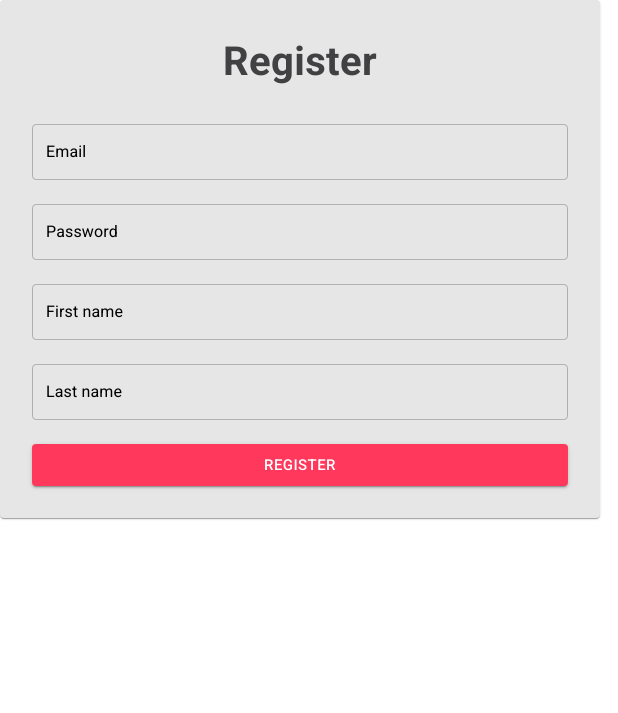
Scenario: Register form › Correctly handles succesfull response
Type "validtest@t.pl" into the field labelled "Email" at (300, 152), box top-left (32, 124), bottom-right (568, 180)
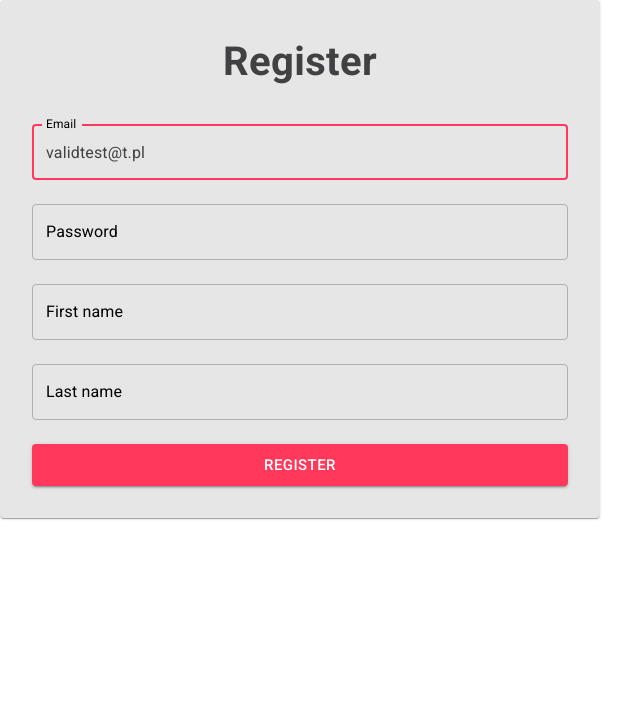
Type "validpassword" into the password field labelled "Password" at (300, 232), box top-left (32, 204), bottom-right (568, 260)
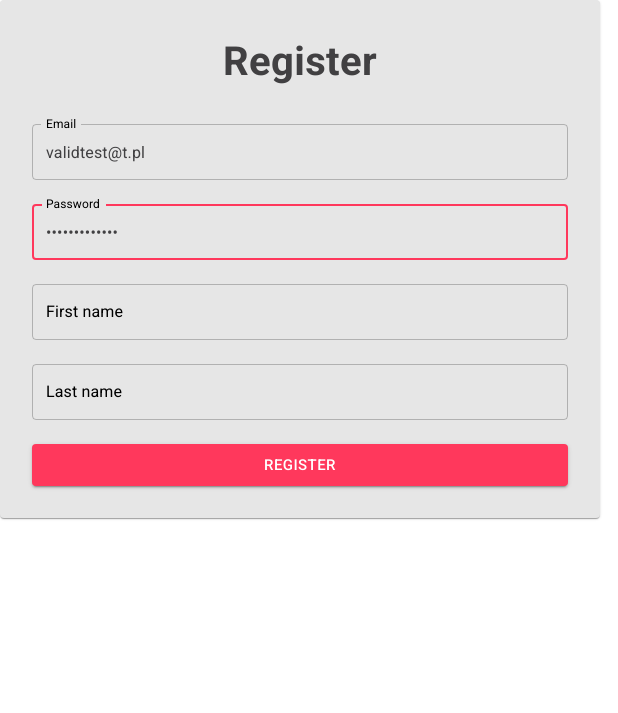
Type "firstName" into the field labelled "First name" at (300, 312), box top-left (32, 284), bottom-right (568, 340)
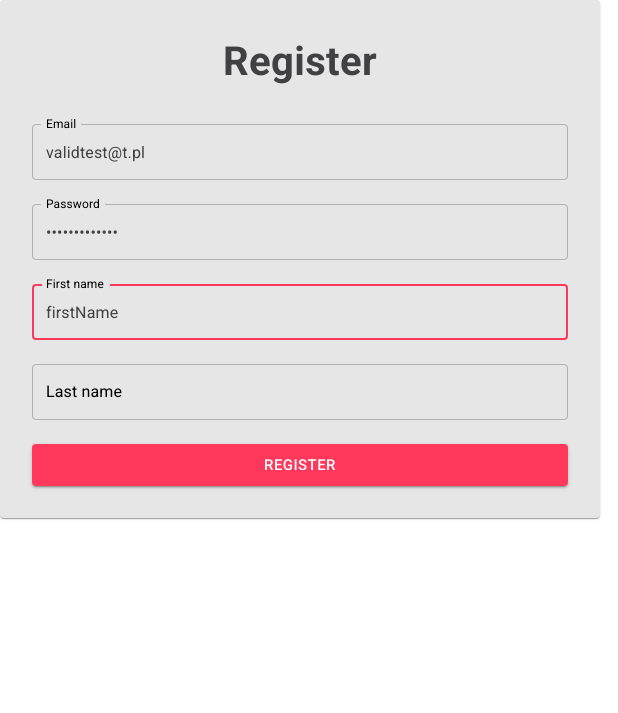
Type "lastName" into the field labelled "Last name" at (300, 392), box top-left (32, 364), bottom-right (568, 420)
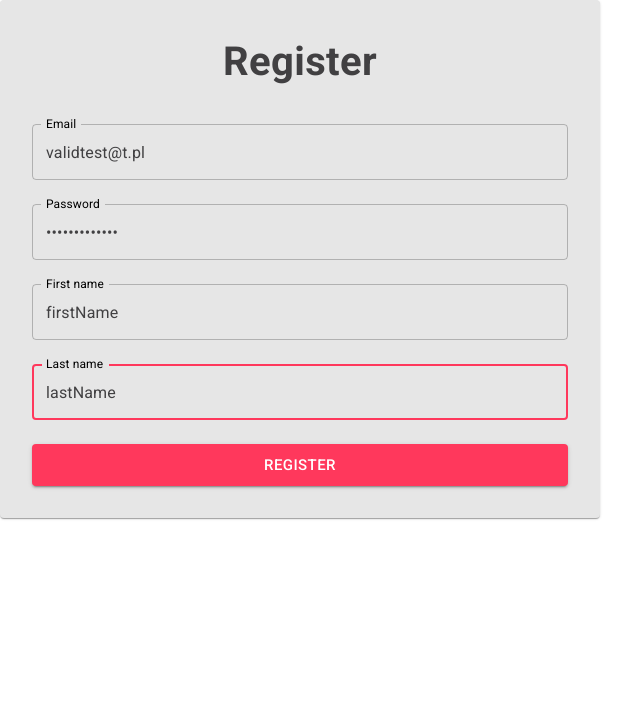
Click the button with test id "register-btn" at (300, 465), box top-left (32, 444), bottom-right (568, 486)
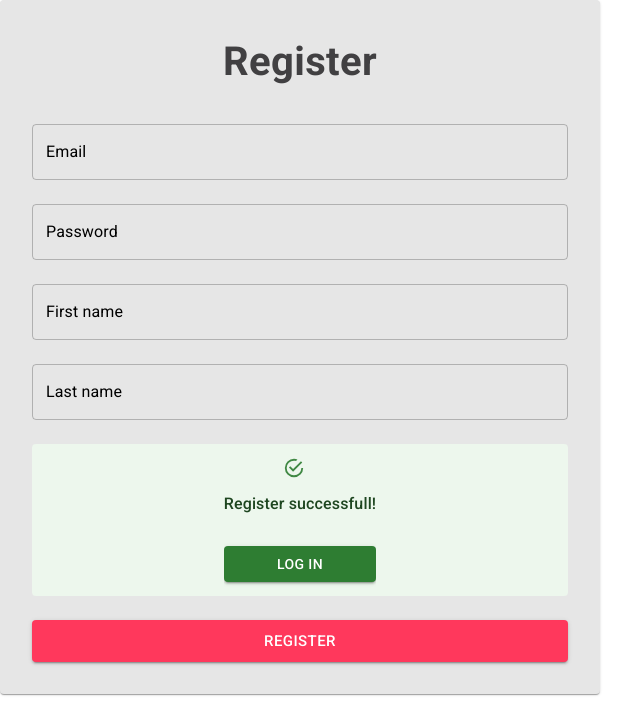
Expected: the text "Register successfull!" is shown, top-left (224, 492), bottom-right (376, 516)
